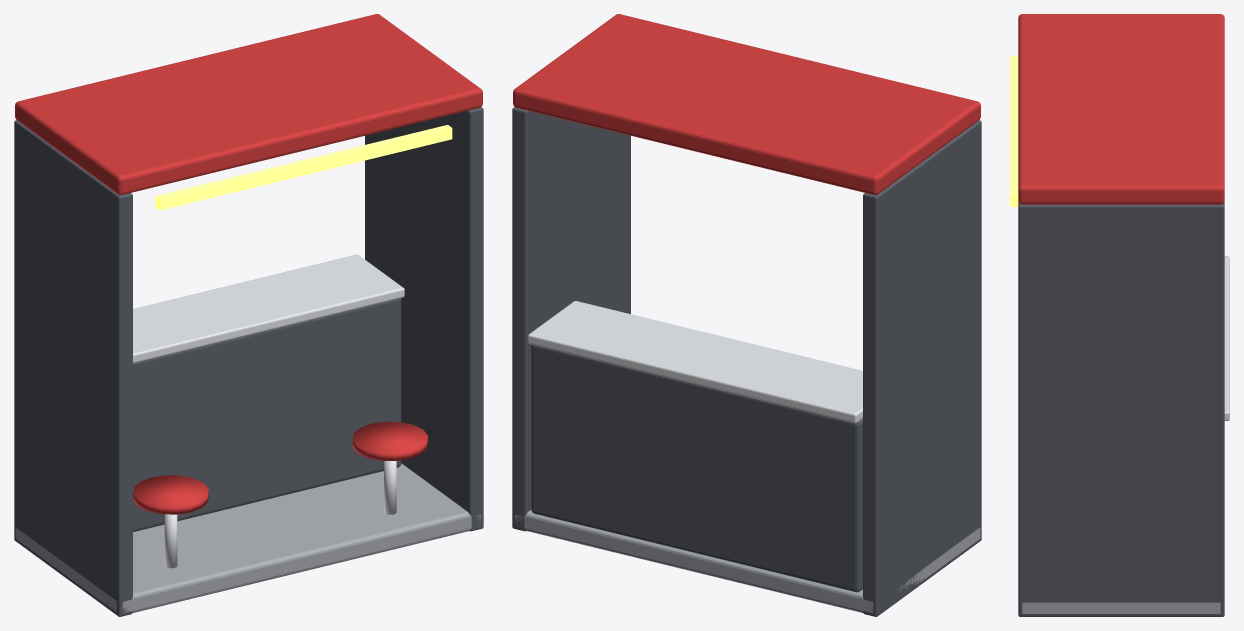
The model's file is noodle_stall_ramen_booth.glb.
3 views of the same model, side by side, from view 1: azimuth 30°, elevation 25°; view 2: azimuth 150°, elevation 25°; view 3: azimuth 270°, elevation 25° (orthographic). The views are drawn at different scales.
Parts seen in each view (by area): view 1: GD_noodle_stall_ramen_booth__m1, GD_noodle_stall_ramen_booth__m3, GD_noodle_stall_ramen_booth__m0, GD_noodle_stall_ramen_booth__m5, GD_noodle_stall_ramen_booth__m4, GD_noodle_stall_ramen_booth__m2; view 2: GD_noodle_stall_ramen_booth__m1, GD_noodle_stall_ramen_booth__m3, GD_noodle_stall_ramen_booth__m5, GD_noodle_stall_ramen_booth__m0; view 3: GD_noodle_stall_ramen_booth__m1, GD_noodle_stall_ramen_booth__m3, GD_noodle_stall_ramen_booth__m0, GD_noodle_stall_ramen_booth__m4, GD_noodle_stall_ramen_booth__m5.
Part boxes in pixels (left/top/right/bottom): GD_noodle_stall_ramen_booth__m1: left=14, top=107, right=483, bottom=616; GD_noodle_stall_ramen_booth__m3: left=15, top=14, right=482, bottom=514; GD_noodle_stall_ramen_booth__m0: left=15, top=463, right=480, bottom=612; GD_noodle_stall_ramen_booth__m5: left=133, top=254, right=404, bottom=363; GD_noodle_stall_ramen_booth__m4: left=155, top=125, right=452, bottom=210; GD_noodle_stall_ramen_booth__m2: left=164, top=461, right=396, bottom=568; GD_noodle_stall_ramen_booth__m1: left=512, top=107, right=981, bottom=616; GD_noodle_stall_ramen_booth__m3: left=513, top=14, right=980, bottom=194; GD_noodle_stall_ramen_booth__m5: left=528, top=301, right=862, bottom=423; GD_noodle_stall_ramen_booth__m0: left=515, top=510, right=980, bottom=612; GD_noodle_stall_ramen_booth__m1: left=1018, top=201, right=1224, bottom=616; GD_noodle_stall_ramen_booth__m3: left=1018, top=14, right=1224, bottom=204; GD_noodle_stall_ramen_booth__m0: left=1022, top=602, right=1220, bottom=613; GD_noodle_stall_ramen_booth__m4: left=1010, top=56, right=1018, bottom=206; GD_noodle_stall_ramen_booth__m5: left=1224, top=256, right=1229, bottom=420.
Bounding box in the file's own units: 2 × 2.3 × 1.06.
